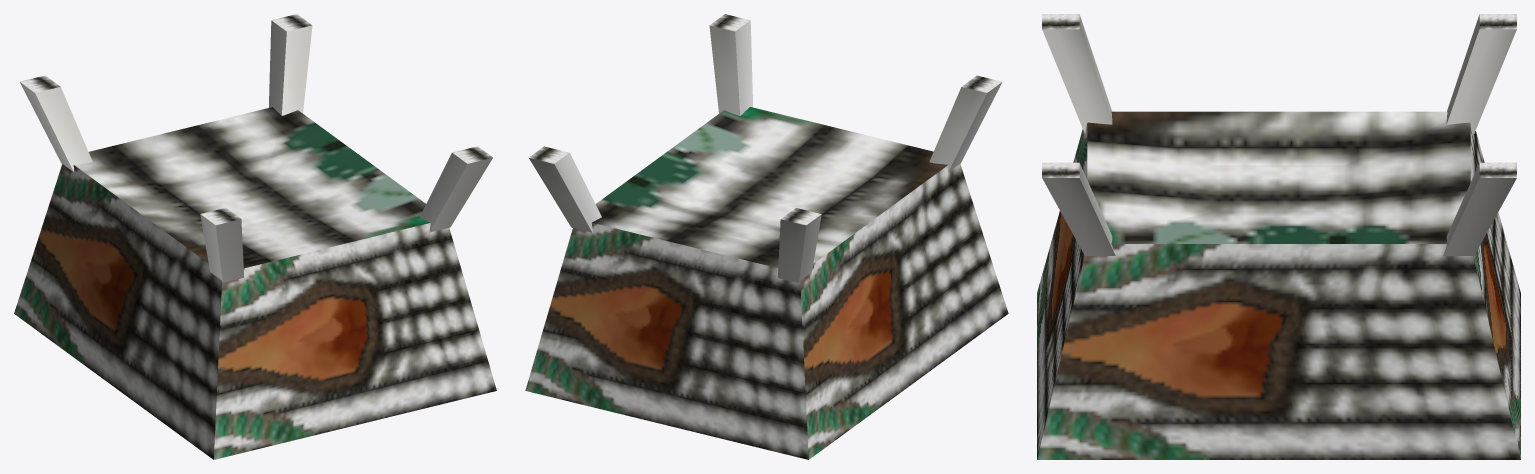
Rendered from helmet_tiwa.dae.
3 views of the same model, side by side, from view 1: azimuth 30°, elevation 25°; view 2: azimuth 150°, elevation 25°; view 3: azimuth 270°, elevation 25° (orthographic). The views are drawn at different scales.
Parts seen in each view (by area): view 1: helmet_tiwa; view 2: helmet_tiwa; view 3: helmet_tiwa.
Boxes of the visible parts, x1,y1,x2,y2 form: helmet_tiwa: (14,14,496,459); helmet_tiwa: (525,14,1008,459); helmet_tiwa: (1037,14,1520,459).
Bounding box in the file's own units: 0.4341 × 0.5304 × 0.3401.
